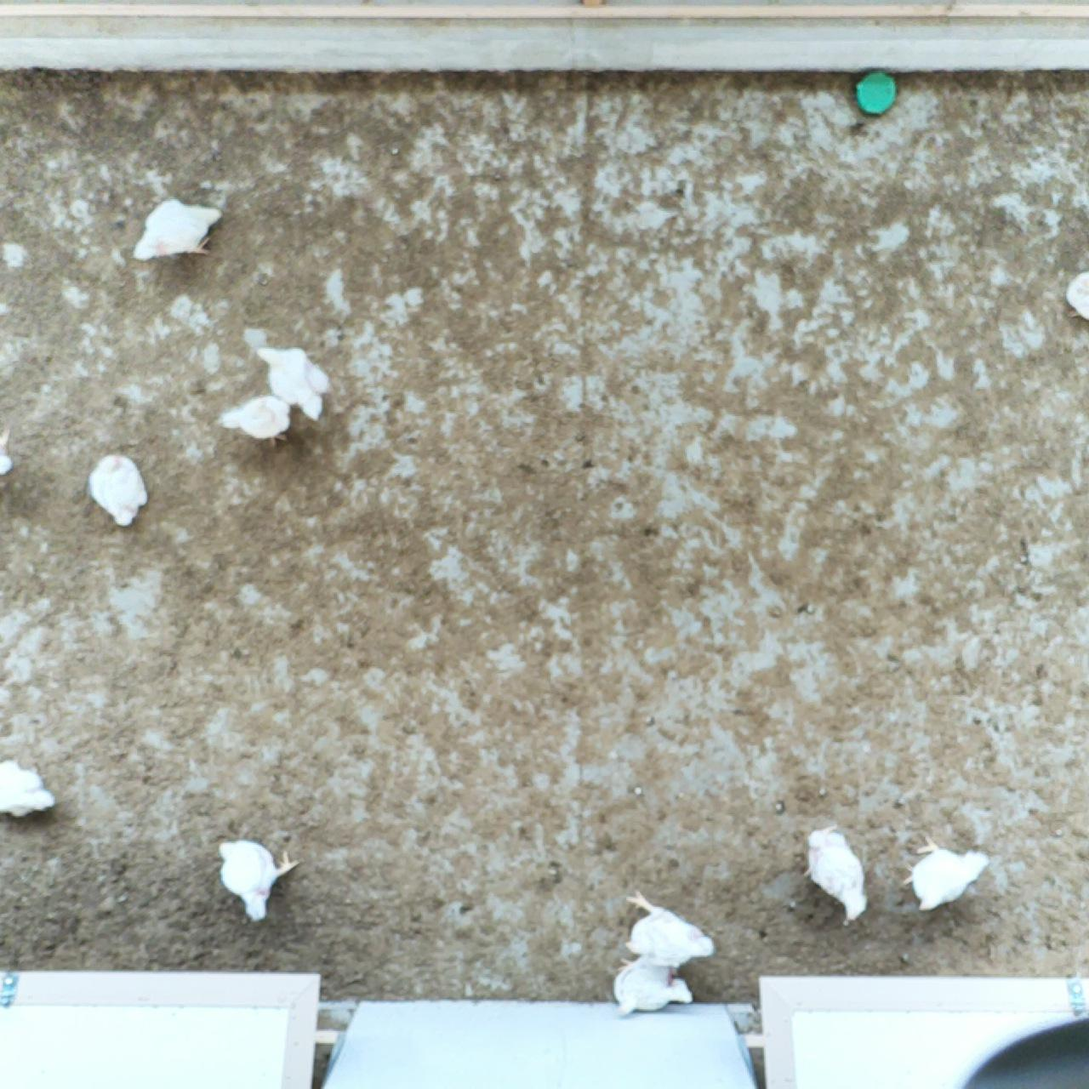chicken: (616, 884, 721, 975), (213, 836, 304, 926), (898, 828, 992, 914), (801, 821, 874, 923), (132, 195, 228, 267), (255, 341, 333, 427), (608, 954, 698, 1021), (86, 450, 150, 531), (217, 392, 296, 450), (0, 755, 59, 820), (1060, 264, 1089, 326)
